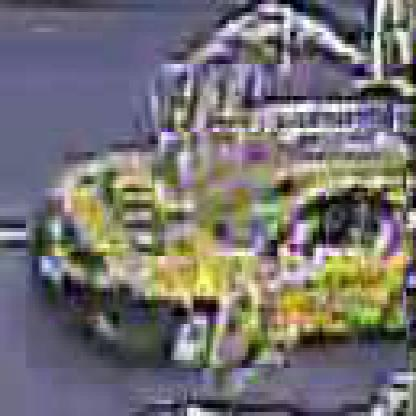car: (27, 133, 411, 373)
